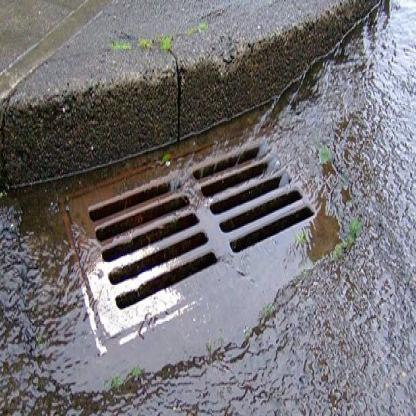open drainage-not overflowing-: (52, 104, 352, 384)
